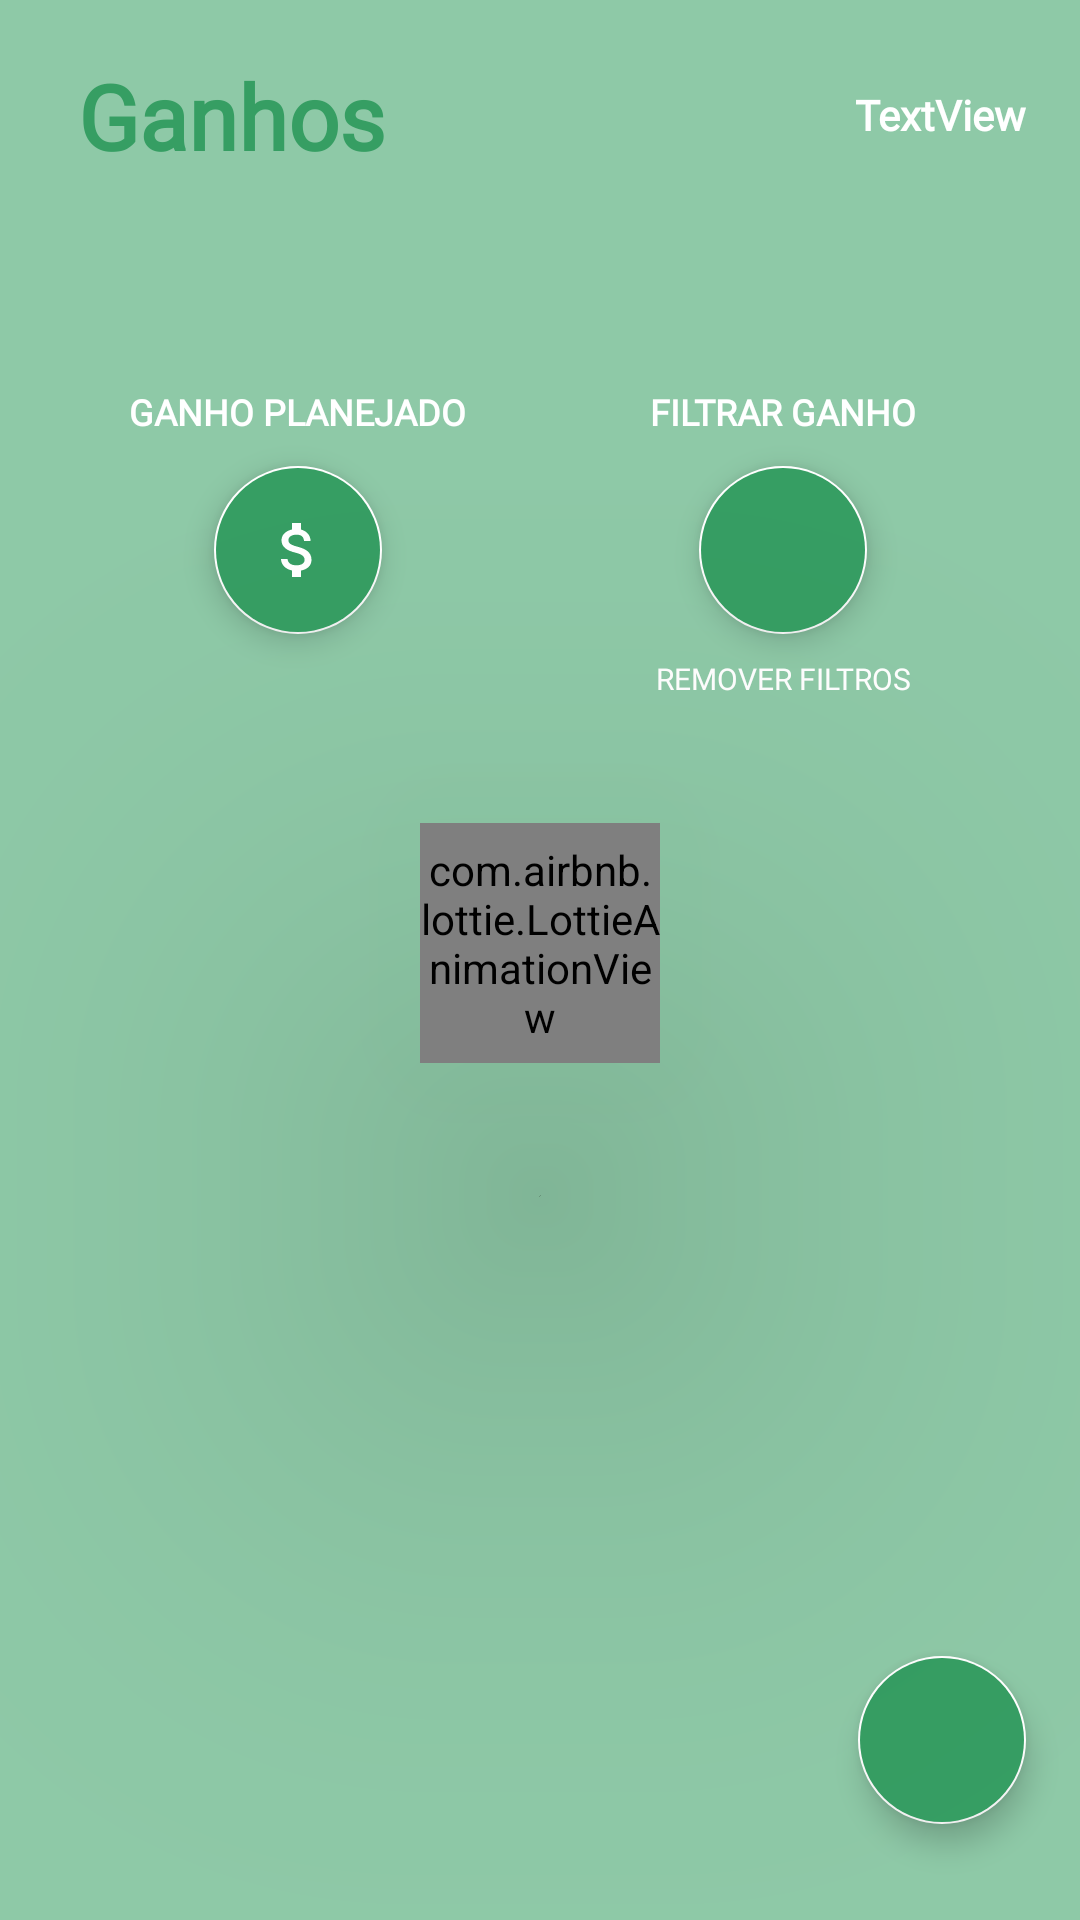

Screen size 1080×1920. Icon name, then its center in pixels as (x,y):
spend: (298,550)
